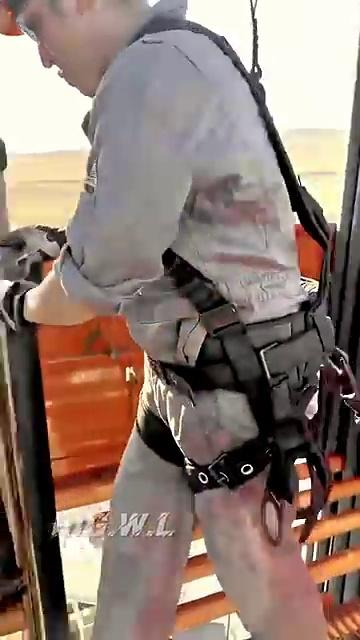glasses: (8, 17, 38, 45)
gloves: (0, 219, 56, 331)
helmet: (0, 0, 16, 53)
worker: (23, 7, 293, 640)
